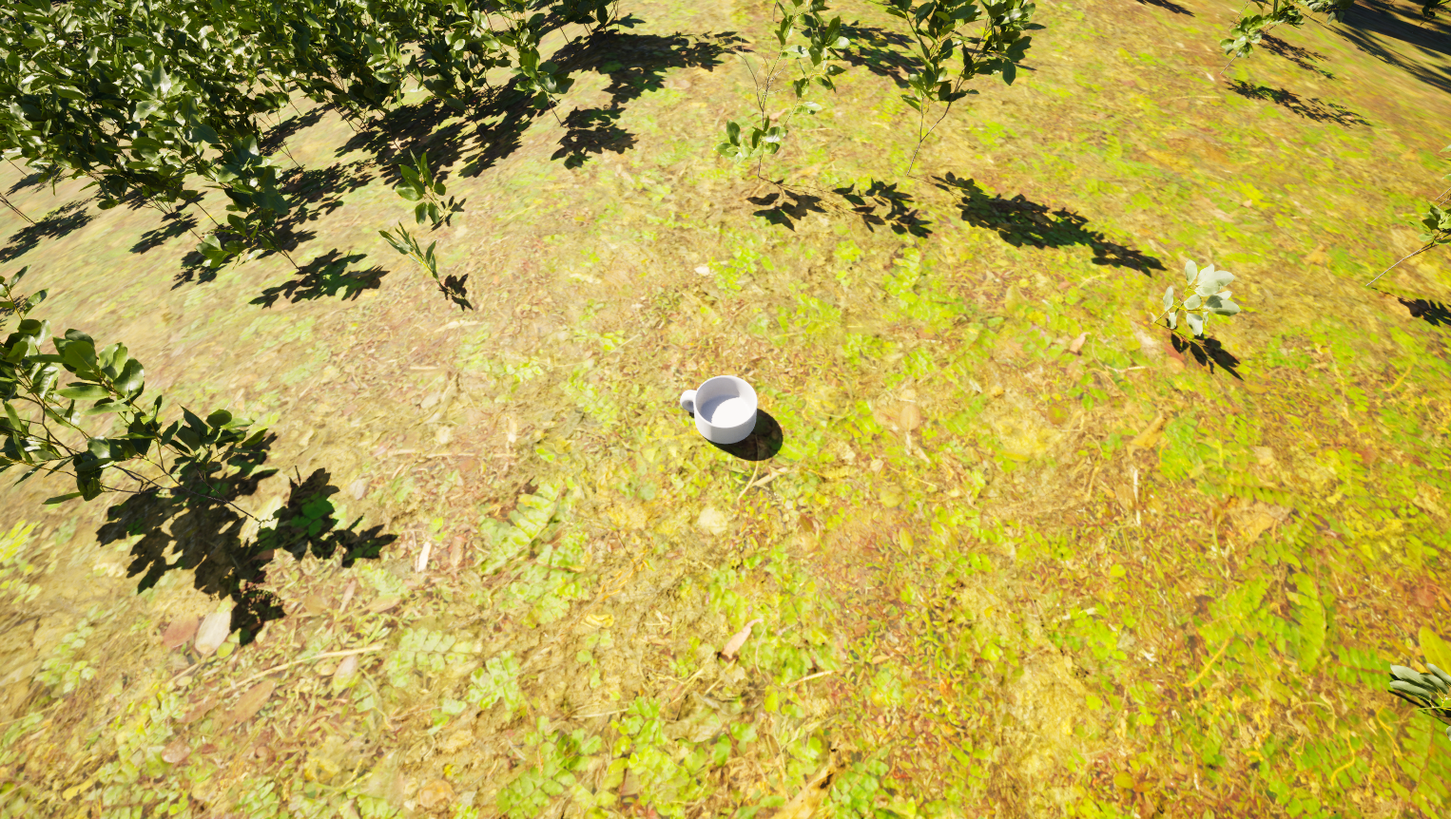Teacup: (675, 359, 771, 456)
